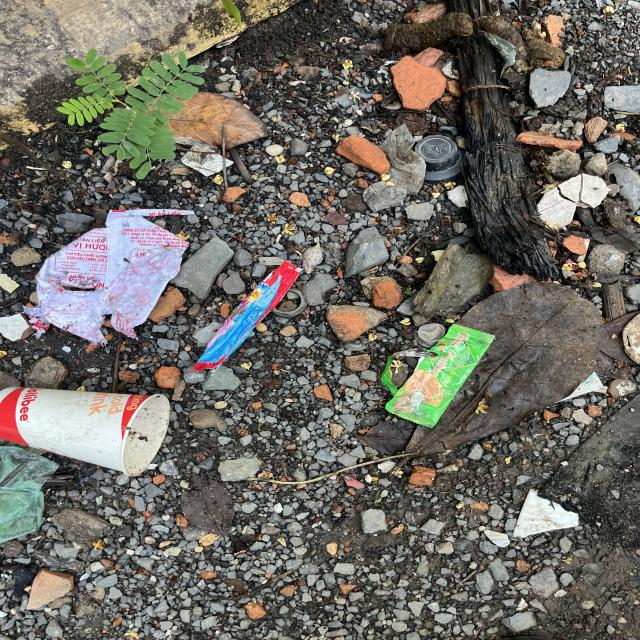bag: (0, 445, 62, 544)
packet: (190, 259, 303, 373), (380, 323, 496, 428)
plastic glass: (0, 386, 172, 477)
snack package: (22, 209, 197, 348)
